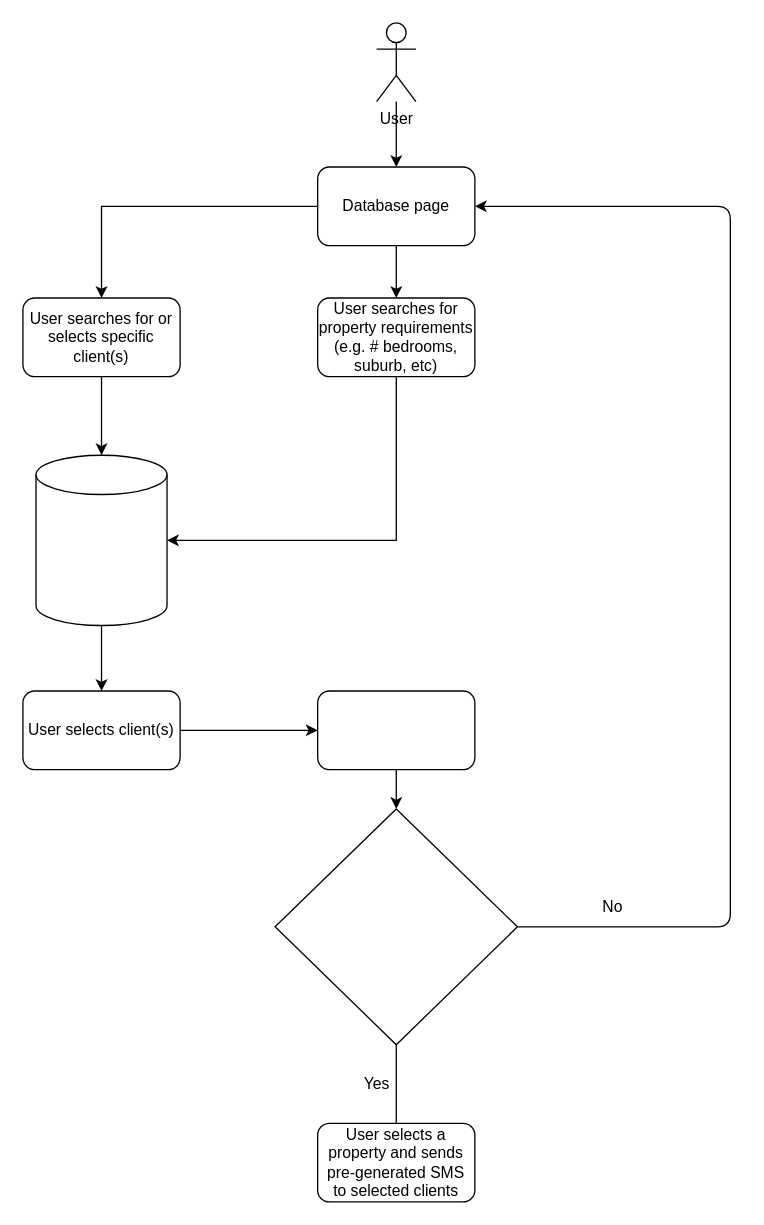
This 764x1225 diagram has some shape labels left out. Here are the shapes that lost their labels. From the top down, the centre of each, then its label:
At [101,540]: "Req sent to server and relevent client(s) returned".
At [395,730]: "Req sent to api and relevent properties returned".
At [395,926]: "Does the property match additional client requirements?".
